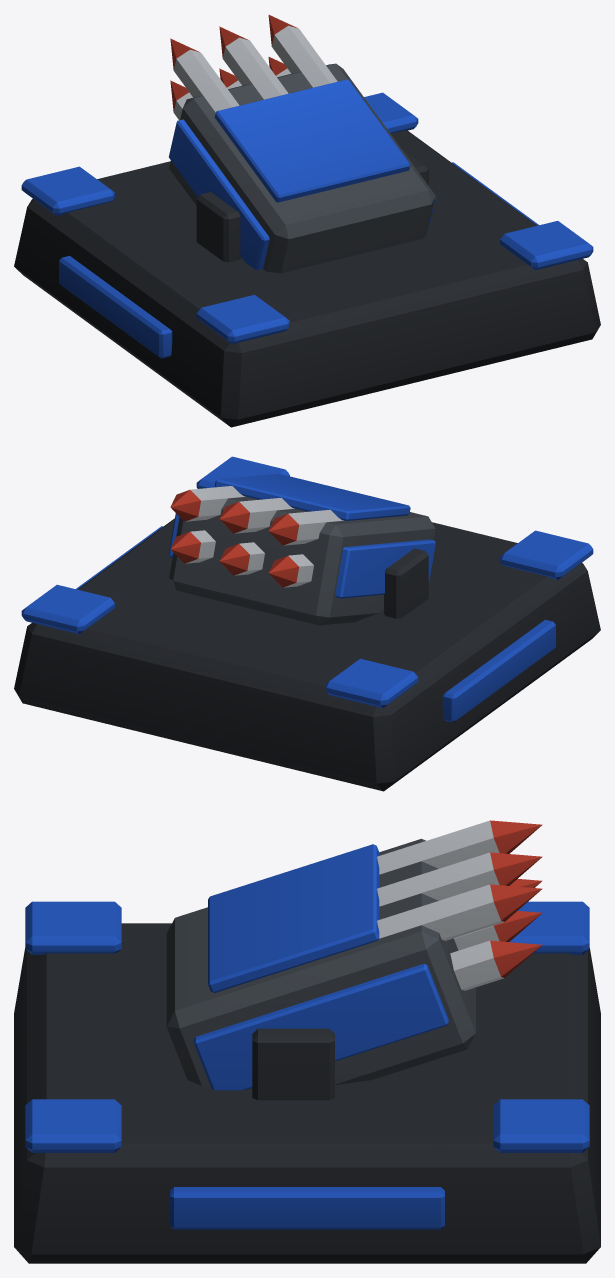
Rendered from sam-site.glb.
The picture shows the model from 3 angles, top to bottom: view 1: azimuth 30°, elevation 25°; view 2: azimuth 150°, elevation 25°; view 3: azimuth 270°, elevation 25°; orthographic projection. The views are drawn at different scales.
Parts seen in each view (by area): view 1: hull, turret; view 2: hull, turret; view 3: hull, turret.
Boxes of the visible parts, box(x1,y1,x2,y2) form: hull: box(14, 92, 600, 427); turret: box(169, 15, 435, 273); hull: box(14, 456, 600, 791); turret: box(168, 473, 435, 625); hull: box(14, 901, 600, 1263); turret: box(166, 820, 542, 1100).
Size of the model in its own units: 0.89 by 0.4702 by 0.8529.
